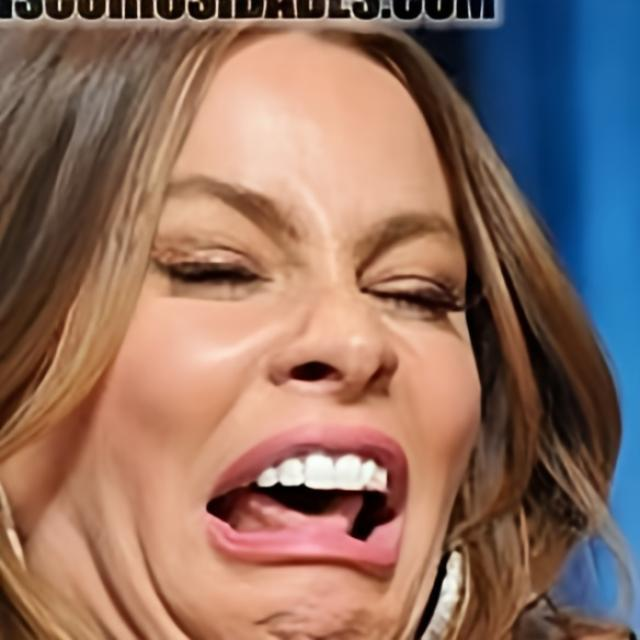disgust: (0, 28, 485, 639)
